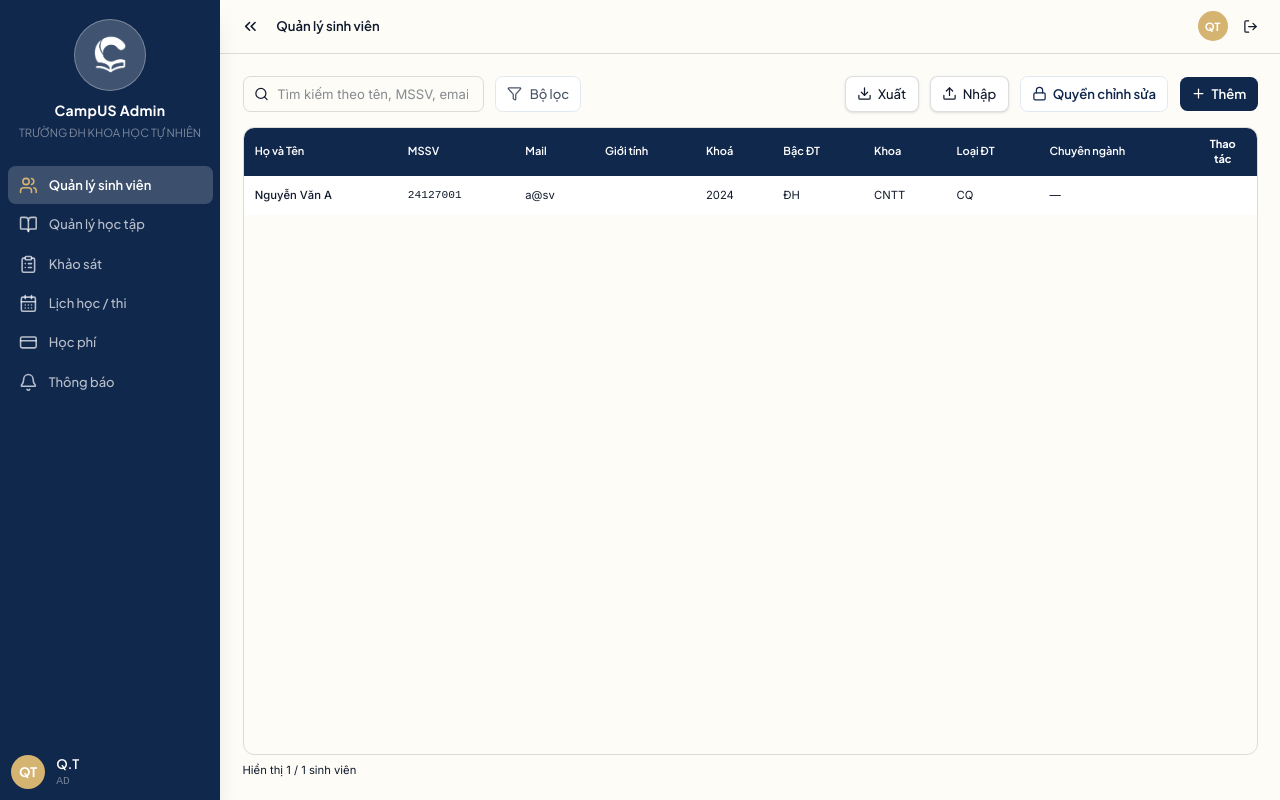
Unit Test: Update Student Academic Status (UC 2.19) › [TC_2.19_03 & 04]: Verify local state updates and Cancel action
Click the text "Nguyễn Văn A": coordinates (293, 195) left=255, top=188, right=332, bottom=202
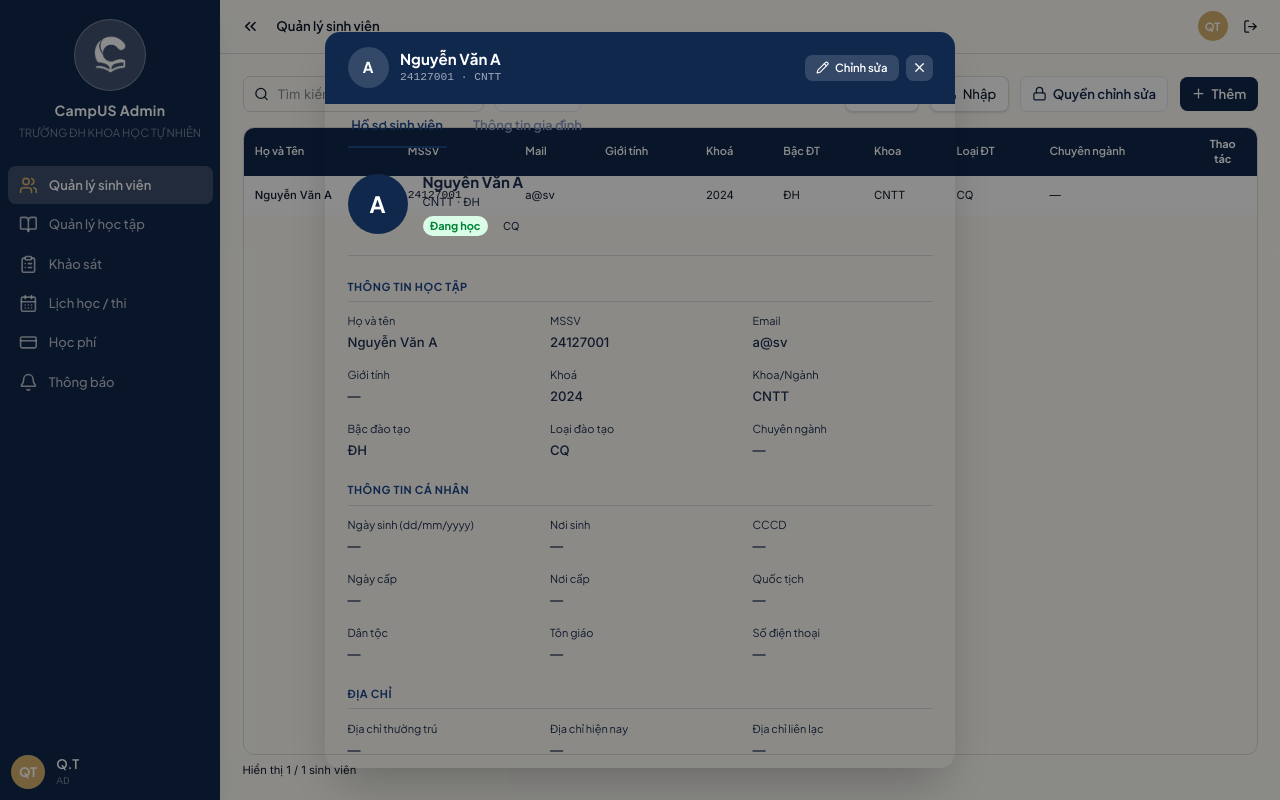
Result: the button "Hồ sơ sinh viên" is shown at left=348, top=104, right=447, bottom=148
Click the button "Chỉnh sửa": coordinates (852, 68) left=805, top=54, right=899, bottom=81
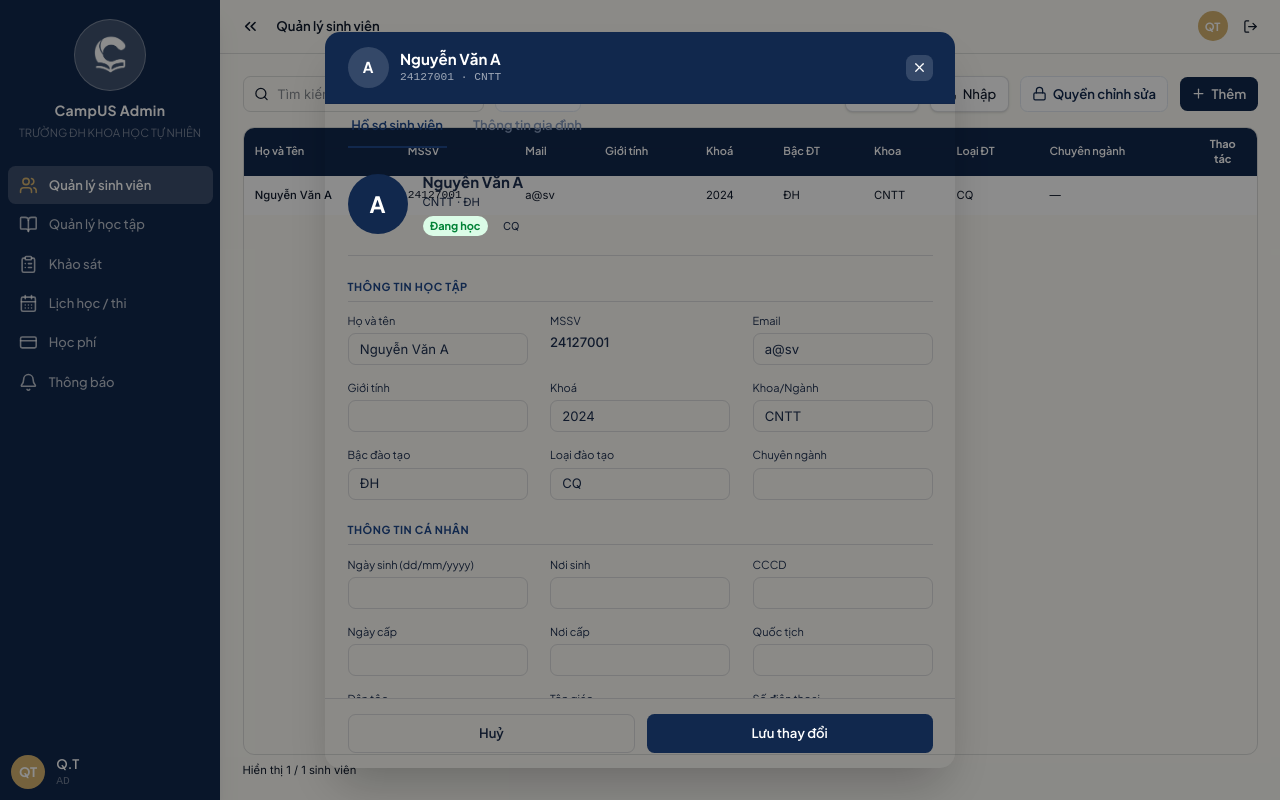
Replace the text in the 1st field showing "Nguyễn Văn A" with "Nguyễn Văn B": coordinates (438, 349) left=348, top=333, right=528, bottom=365
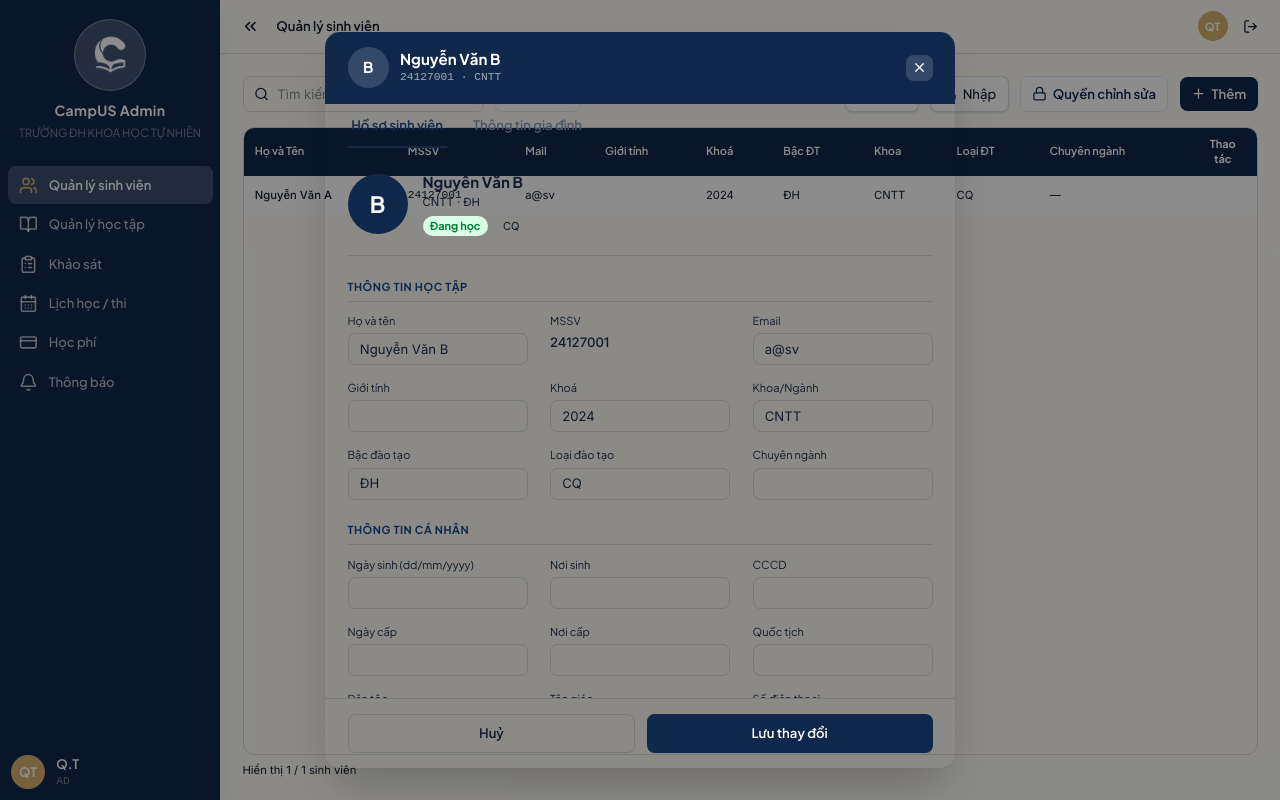
Click the button "Huỷ": coordinates (491, 733) left=348, top=714, right=635, bottom=753
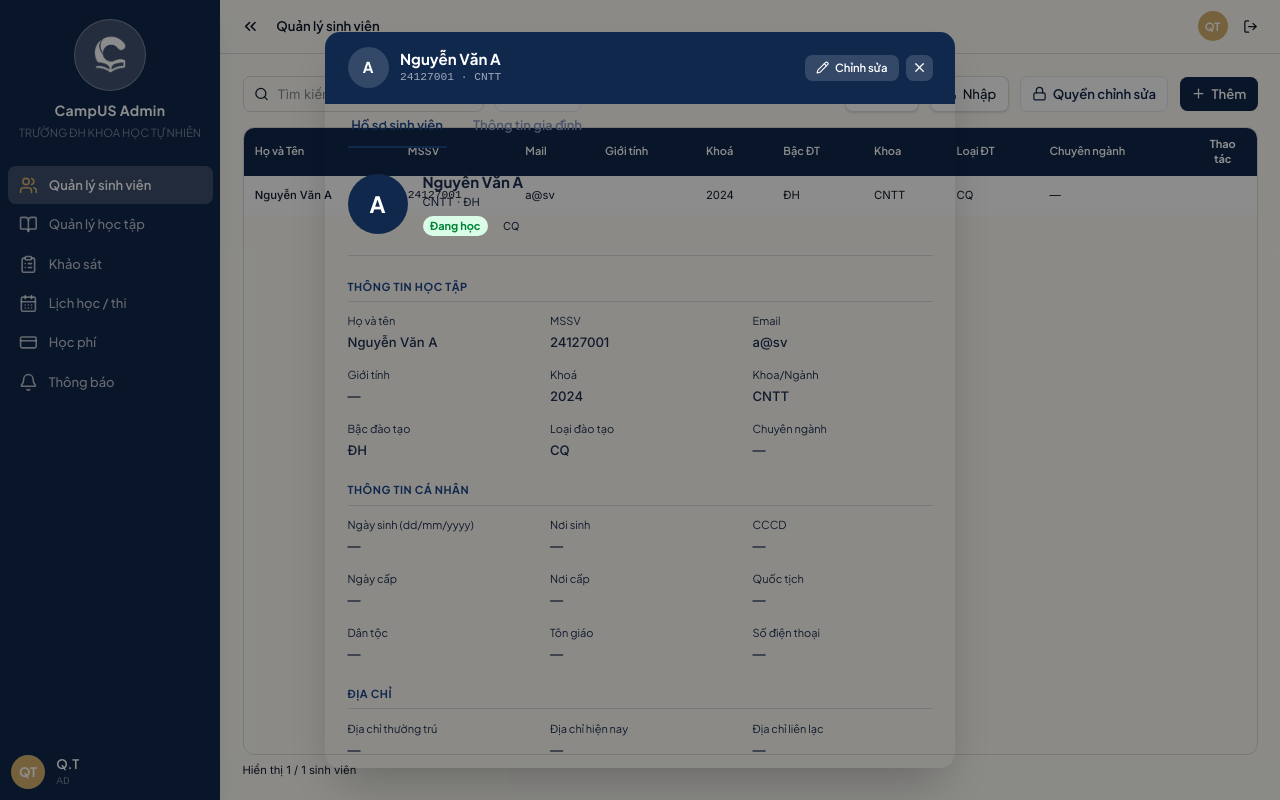
Result: the button "Lưu thay đổi" is gone
Result: the 1st text "Nguyễn Văn A" is shown at left=400, top=49, right=501, bottom=68
Result: the text showing "Nguyễn Văn B" is gone
